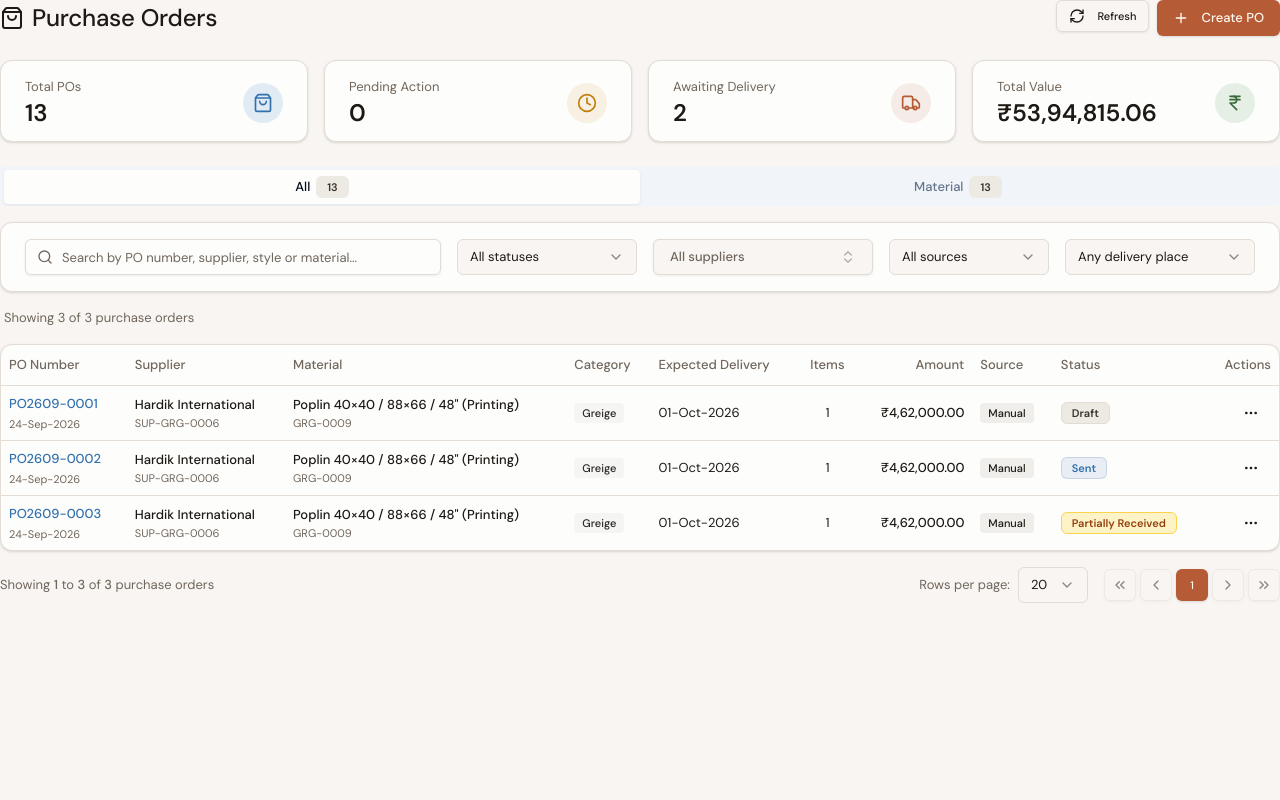
Test: PurchaseOrderList › offers Cancel on a sent PO (in the shared dialog), and not on a draft or a part-received one
This screenshot has width=1280, height=800.
Expected: the link "PO2609-0001" is shown, [9,394,98,412]
Click the button named "Actions for PO2609-0001" at (1251,412), box [1231,396,1271,428]
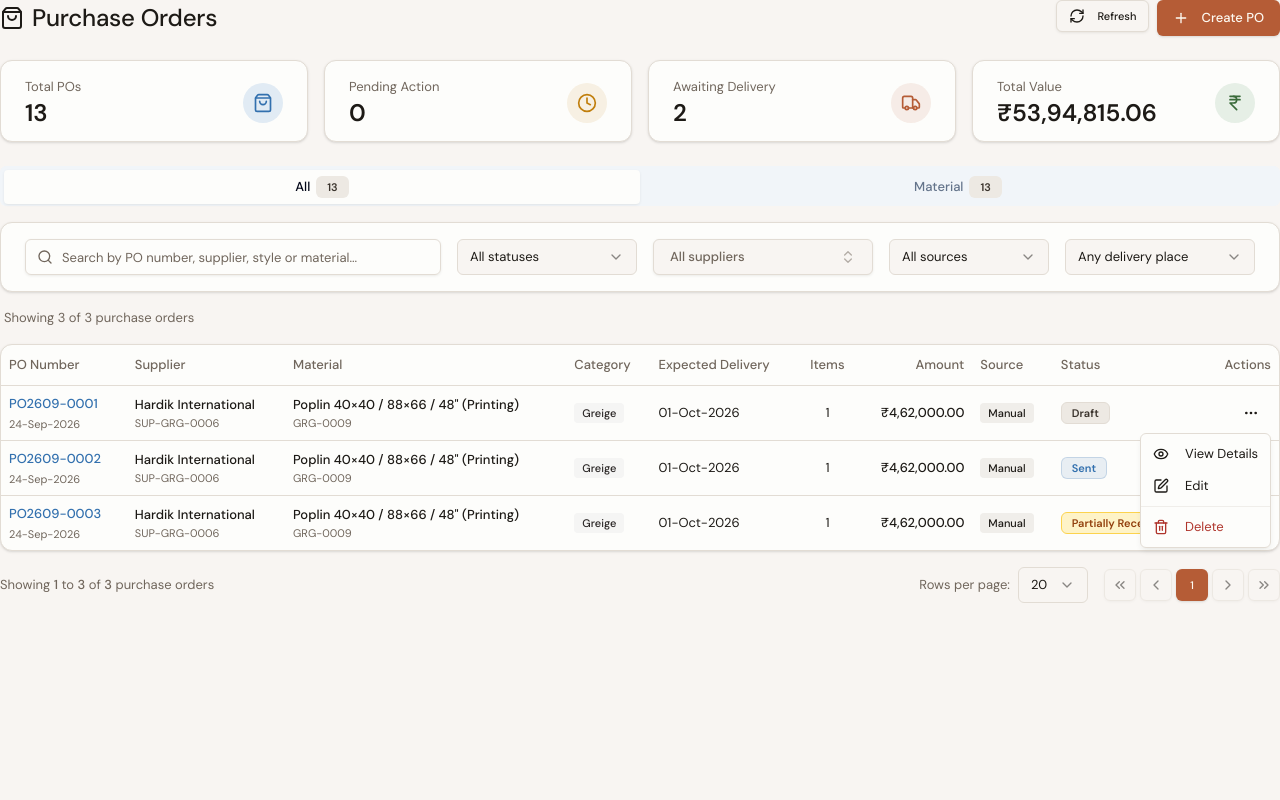
Expected: the text "Cancel PO" is not shown
Expected: the menu item "Delete" is shown, [1153,518,1224,535]
Press Escape
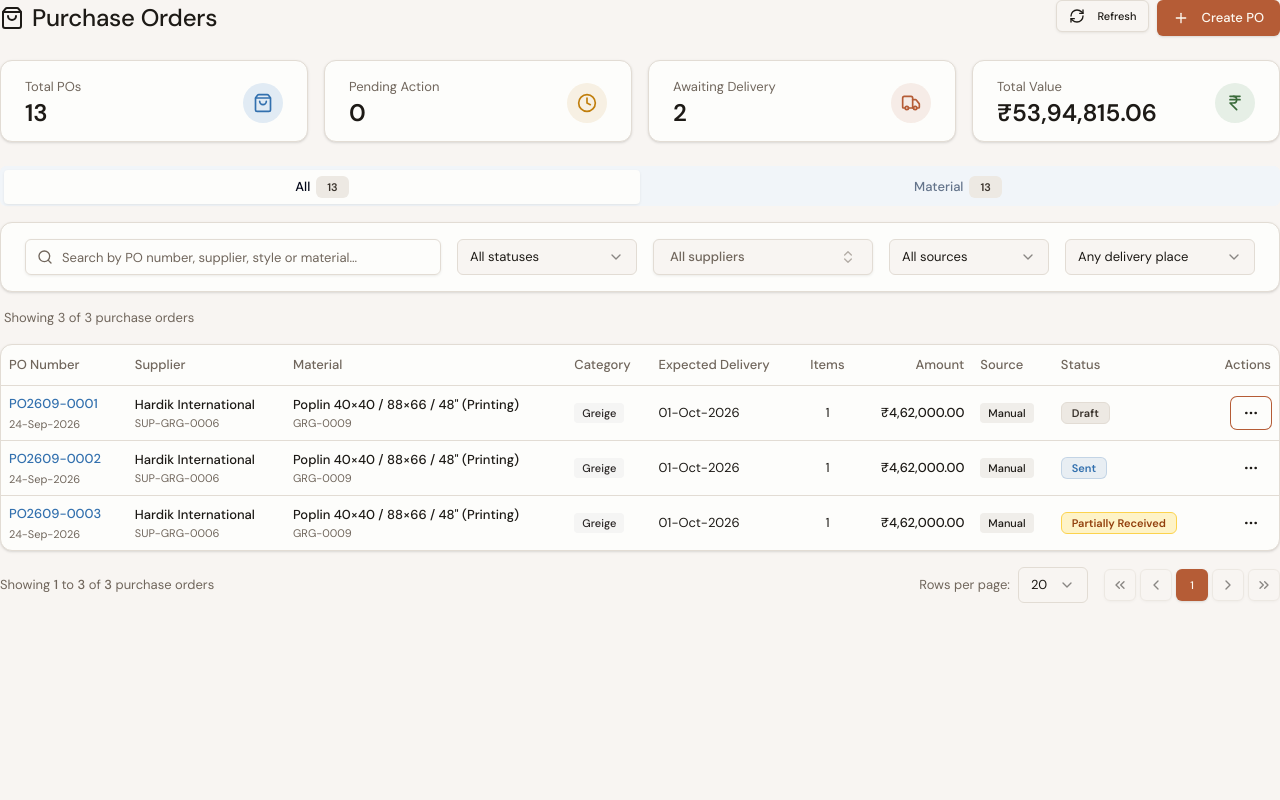
Click the button named "Actions for PO2609-0003" at (1251,522), box [1231,506,1271,538]
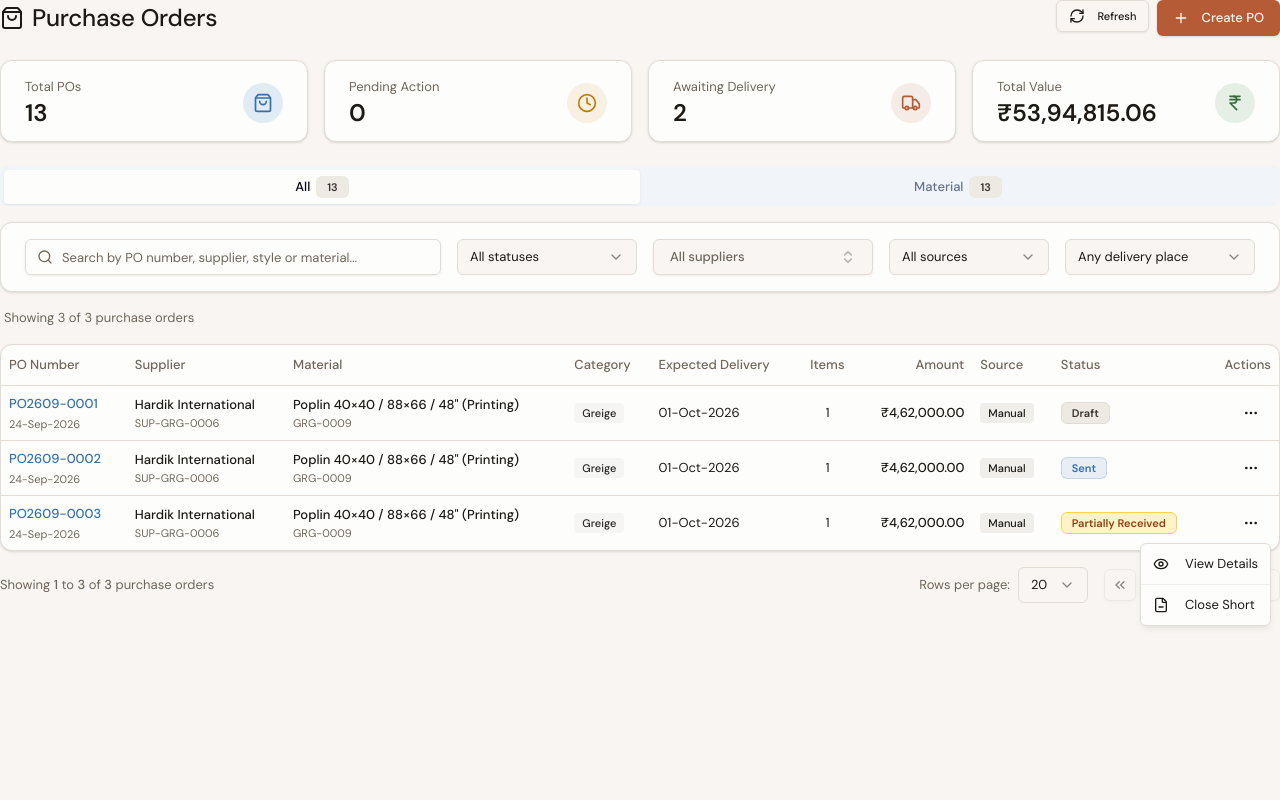
Expected: the text "Cancel PO" is not shown
Expected: the menu item "Close Short" is shown, [1153,596,1255,613]
Press Escape
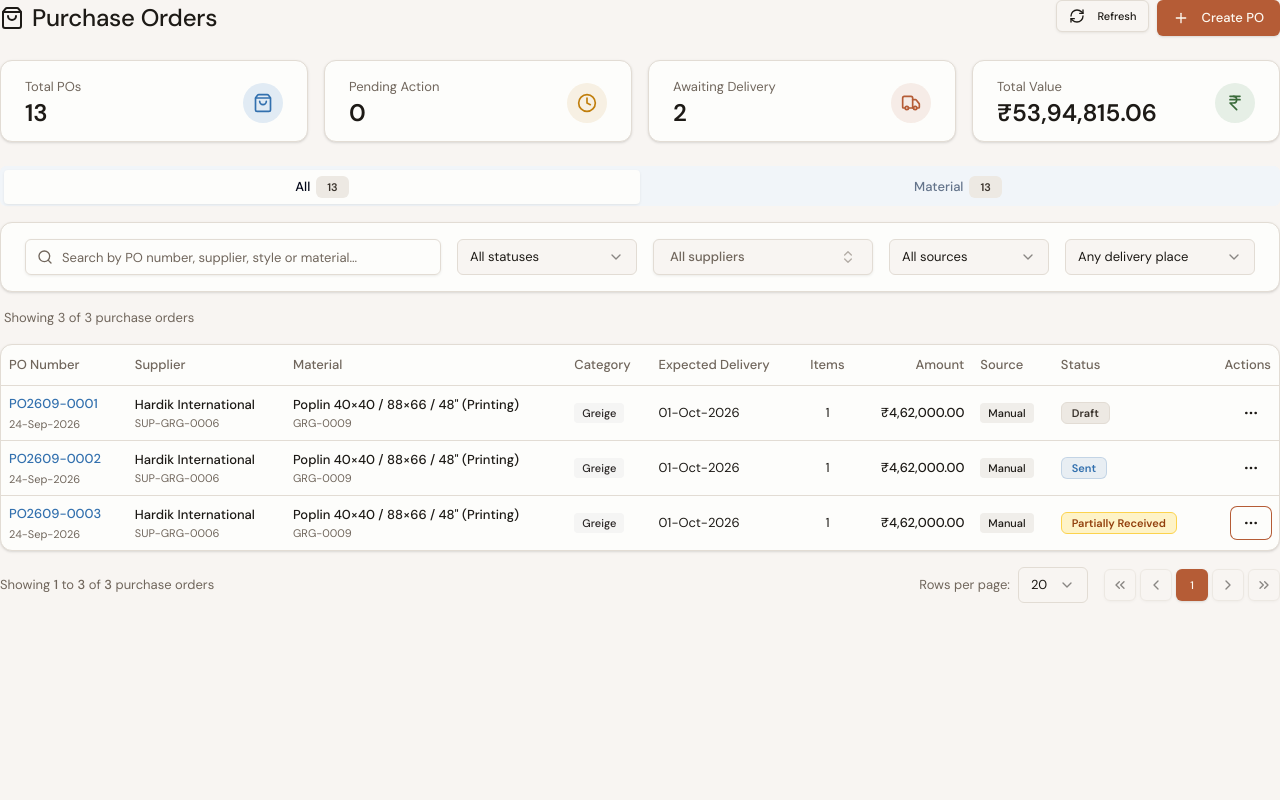
Click the button named "Actions for PO2609-0002" at (1251,468), box [1231,452,1271,484]
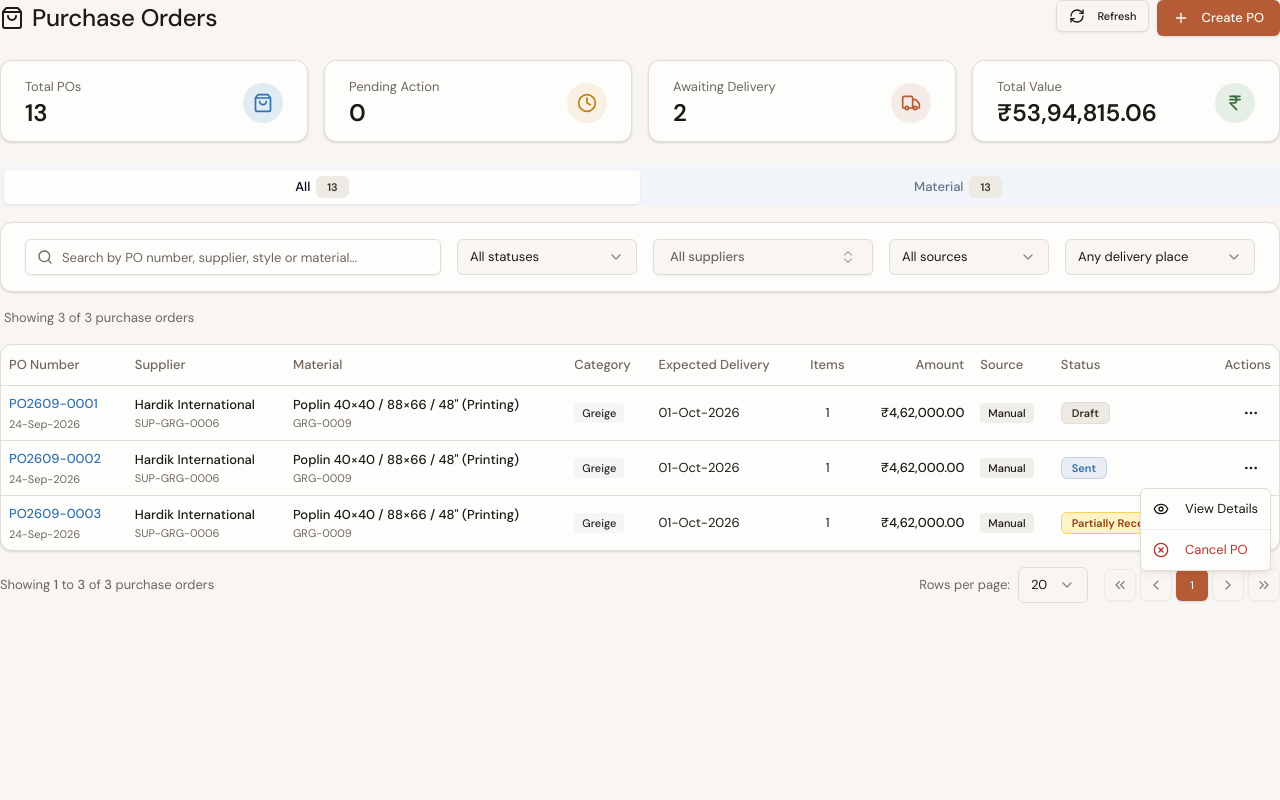
Click the menu item "Cancel PO" at (1200,550), box [1153,541,1248,558]
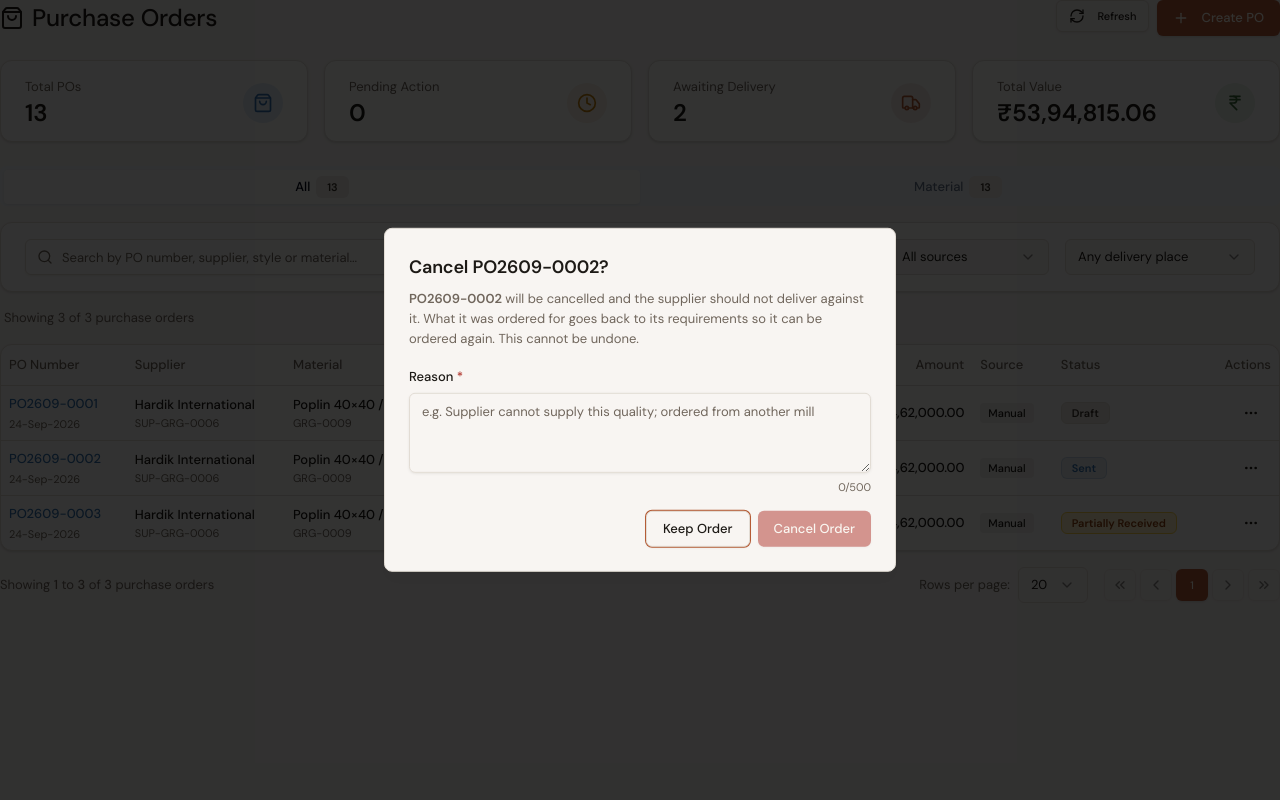
Expected: the dialog shows "Cancel PO2609-0002?", [409,255,609,279]
